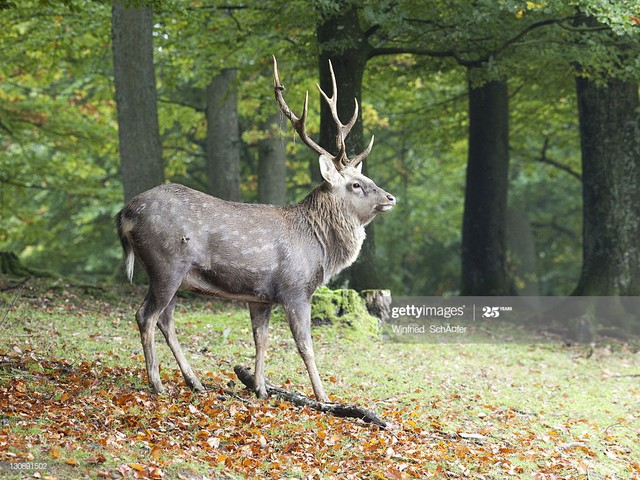deer: (108, 52, 395, 410)
